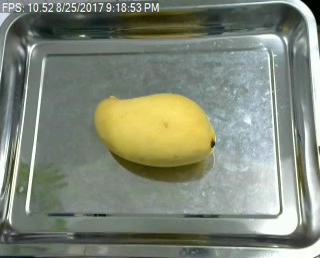Mango: (95, 92, 215, 166)
